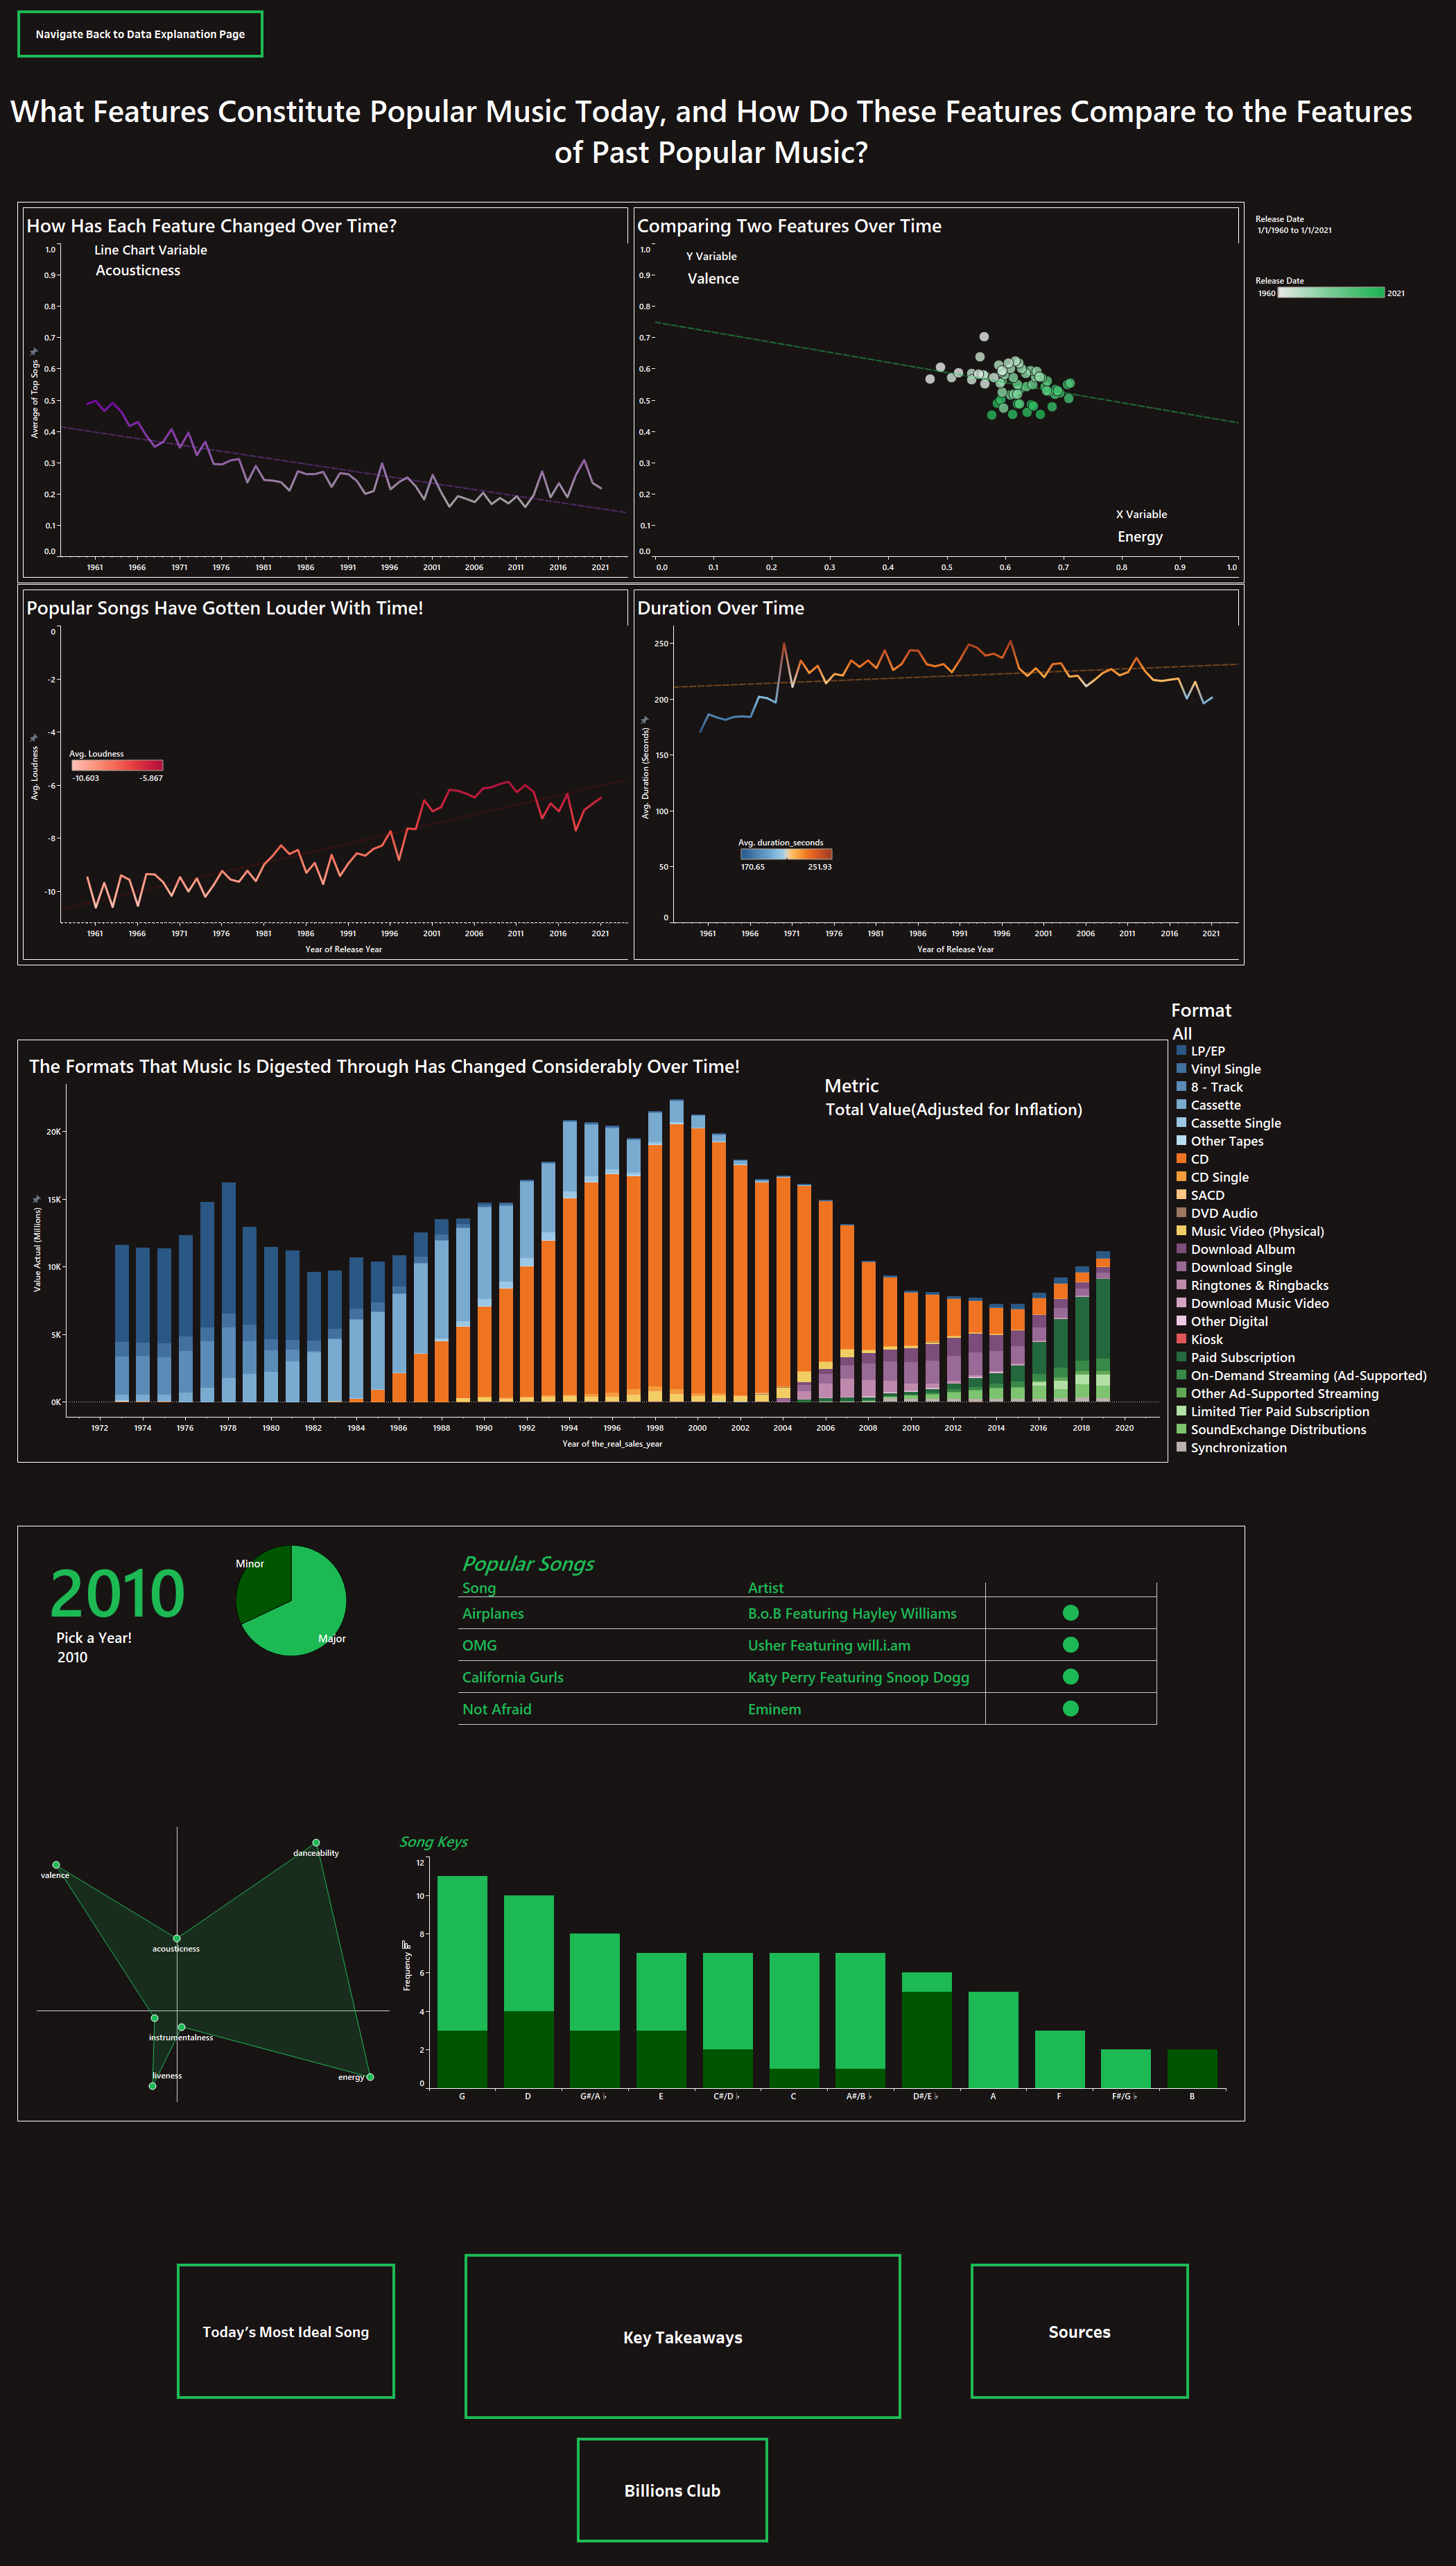

The dashboard page shown, as its layout file describes it:
{"tool":"tableau","page":{"name":"Dashboard 1","canvas":[2100,3200],"ordinal":0},"visuals":[{"type":"title","box":[0,0,2100,226]},{"type":"filter","title":"copmare_two","param":"[federated.07gz19p0mtp7dx170vfiv0s5ub1g].[none:release_year:qk]","box":[1807,261,228,61.5]},{"type":"worksheet","title":"interactive_line","mark":"Automatic","rows":["Calculation_908319789042429953"],"cols":["release_year"],"box":[47,276,789,555]},{"type":"worksheet","title":"copmare_two","mark":"Circle","rows":["Calculation_808677647371812865"],"cols":["Calculation_808677647368556544"],"box":[836,276,943,555]},{"type":"parameter","param":"[Parameters].[Parameter 3]","box":[889,285,160,49]},{"type":"parameter","param":"[Parameters].[Parameter 1]","box":[136,298,196,64]},{"type":"legend","title":"copmare_two","param":"[federated.07gz19p0mtp7dx170vfiv0s5ub1g].[tyr:release_year:qk]","box":[1807,322.5,228,61.5]},{"type":"highlighter","title":"interactive_line","param":"[federated.07gz19p0mtp7dx170vfiv0s5ub1g].[yr:date:ok]","box":[1807,384,228,51]},{"type":"parameter","param":"[Parameters].[Parameter 2]","box":[1616,737,160,49]},{"type":"worksheet","title":"Loudness","mark":"Automatic","rows":["loudness"],"cols":["release_year"],"box":[32,850,940,575]},{"type":"worksheet","title":"Duration","mark":"Automatic","rows":["Calculation_742531028624629761"],"cols":["release_year"],"box":[972,850,801,575]},{"type":"legend","title":"Loudness","param":"[federated.07gz19p0mtp7dx170vfiv0s5ub1g].[avg:loudness:qk]","box":[100,929,140,73]},{"type":"legend","title":"Duration","param":"[federated.07gz19p0mtp7dx170vfiv0s5ub1g].[avg:Calculation_742531028624629761:qk]","box":[1046,1291,140,73]},{"type":"worksheet","title":"sales_bar","mark":"Bar","rows":["value_actual"],"cols":["year"],"box":[21,1554,1800,656]},{"type":"legend","title":"sales_bar","param":"[federated.154cm6u033iwps14i09uf0rqp8p3].[none:format:nk]","box":[1837,1583,241,665]},{"type":"filter","title":"sales_bar","param":"[federated.154cm6u033iwps14i09uf0rqp8p3].[none:Calculation_569423917438959616:nk","box":[265,1604,230,73]},{"type":"worksheet","title":"Year Title","mark":"Automatic","box":[61,2348,287,358]},{"type":"worksheet","title":"mode","mark":"Pie","box":[348,2348,321,358]},{"type":"worksheet","title":"topsongs","mark":"Circle","rows":["song","artist"],"box":[669,2348,1075,358]},{"type":"filter","title":"Year Title","param":"[federated.07gz19p0mtp7dx170vfiv0s5ub1g].[yr:release_year:ok]","box":[100,2520,164,66]},{"type":"worksheet","title":"spider_chart","mark":"Polygon","rows":["Calculation_569423917496700935","Calculation_569423917496700935"],"cols":["Calculation_569423917496606726"],"box":[61,2763,515.2,394]},{"type":"worksheet","title":"popular_key","mark":"Automatic","rows":["af_charts_combined.csv_56B1A0C6A47C4A39BF2E8B8EEA0FF01A"],"cols":["Calculation_569423917448785921"],"box":[576.2,2763,1199.8,394]}]}

Visuals, with their boxes on the page's 2100x3200 design canvas (x1, y1, x2, y2). These are canvas units, not pixel positions in the 1456x2566 screenshot, which may show the page scaled, cropped or inside an application window:
title: BBox(0, 0, 2100, 226)
"copmare_two" filter: BBox(1807, 261, 2035, 322)
"interactive_line" worksheet: BBox(47, 276, 836, 831)
"copmare_two" worksheet (Circle marks): BBox(836, 276, 1779, 831)
parameter: BBox(889, 285, 1049, 334)
parameter: BBox(136, 298, 332, 362)
"copmare_two" legend: BBox(1807, 322, 2035, 384)
"interactive_line" highlighter: BBox(1807, 384, 2035, 435)
parameter: BBox(1616, 737, 1776, 786)
"Loudness" worksheet: BBox(32, 850, 972, 1425)
"Duration" worksheet: BBox(972, 850, 1773, 1425)
"Loudness" legend: BBox(100, 929, 240, 1002)
"Duration" legend: BBox(1046, 1291, 1186, 1364)
"sales_bar" worksheet (Bar marks): BBox(21, 1554, 1821, 2210)
"sales_bar" legend: BBox(1837, 1583, 2078, 2248)
"sales_bar" filter: BBox(265, 1604, 495, 1677)
"Year Title" worksheet: BBox(61, 2348, 348, 2706)
"mode" worksheet (Pie marks): BBox(348, 2348, 669, 2706)
"topsongs" worksheet (Circle marks): BBox(669, 2348, 1744, 2706)
"Year Title" filter: BBox(100, 2520, 264, 2586)
"spider_chart" worksheet (Polygon marks): BBox(61, 2763, 576, 3157)
"popular_key" worksheet: BBox(576, 2763, 1776, 3157)
